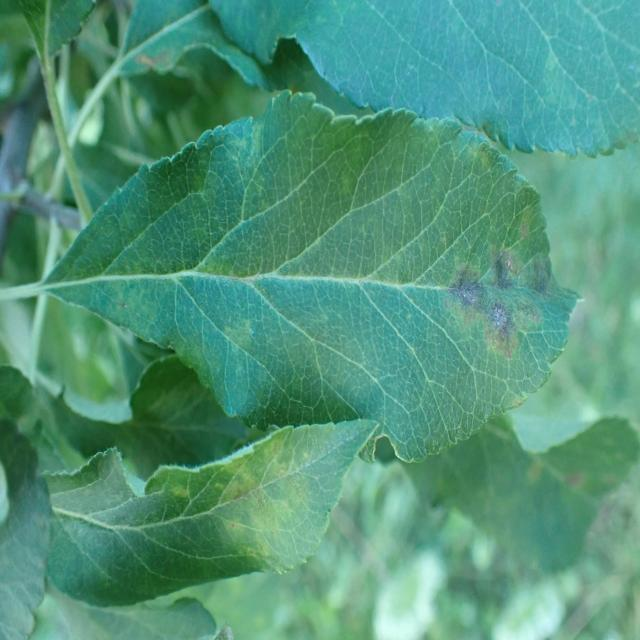scab: (160, 443, 331, 602), (426, 201, 565, 379)
